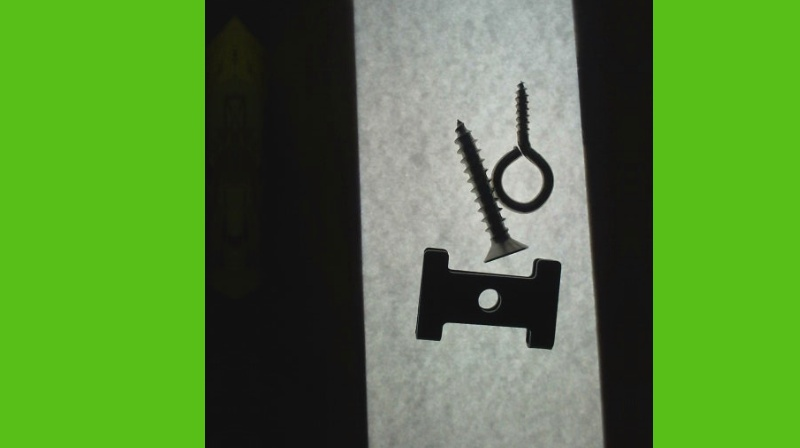O001: (487, 77, 554, 214)
O002: (412, 244, 562, 350)
S001: (452, 117, 527, 264)
